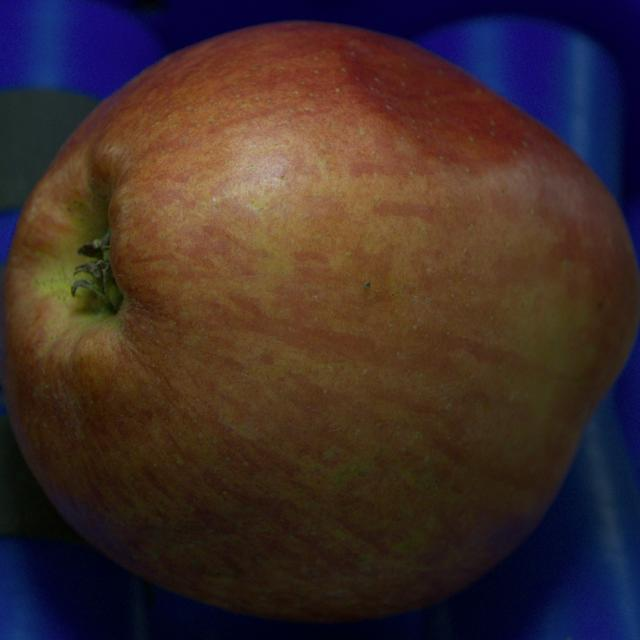apple: (0, 22, 639, 619)
bruise: (337, 34, 530, 173)
